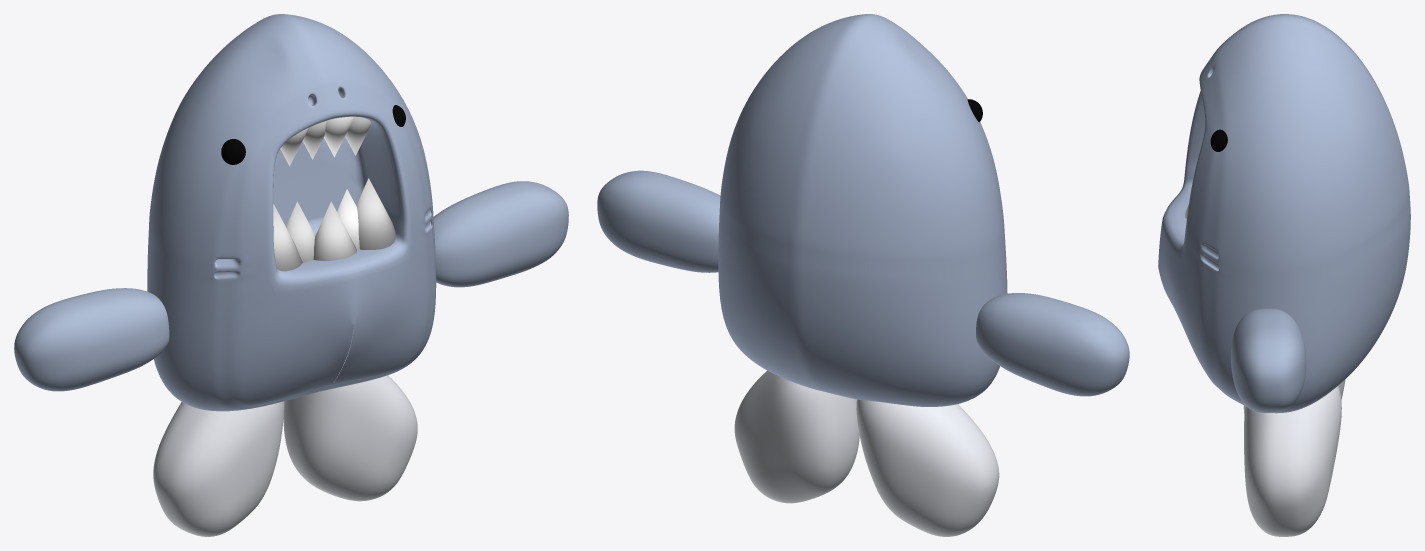
Rendered from TAmg.fbx.
3 views of the same model, side by side, from view 1: azimuth 30°, elevation 25°; view 2: azimuth 150°, elevation 25°; view 3: azimuth 270°, elevation 25° (orthographic). The views are drawn at different scales.
Visible parts, largest first — view 1: body, leg le, leg ri, arm le, arm le.001, Cone.009, Cone.007, Cone.006, Cone.005, Cone.008, Cone.004; view 2: body, leg le, leg ri, arm le, arm le.001; view 3: body, leg ri, arm le.001, Roundcube.002.
Boxes of the visible parts, x1,y1,x2,y2 form: body: [147, 14, 436, 411]; leg le: [153, 401, 284, 536]; leg ri: [283, 347, 417, 501]; arm le: [14, 288, 169, 391]; arm le.001: [433, 181, 568, 287]; Cone.009: [356, 178, 395, 249]; Cone.007: [313, 201, 356, 260]; Cone.006: [273, 204, 302, 271]; Cone.005: [286, 201, 315, 262]; Cone.008: [337, 189, 359, 250]; Cone.004: [324, 116, 354, 157]; body: [718, 14, 1007, 406]; leg le: [856, 399, 999, 536]; leg ri: [734, 370, 859, 503]; arm le: [976, 293, 1129, 396]; arm le.001: [597, 170, 720, 272]; body: [1158, 14, 1410, 413]; leg ri: [1244, 386, 1341, 536]; arm le.001: [1231, 308, 1306, 412]; Roundcube.002: [1210, 129, 1227, 151].
Bounding box in the file's own units: 465 × 412 × 196.
